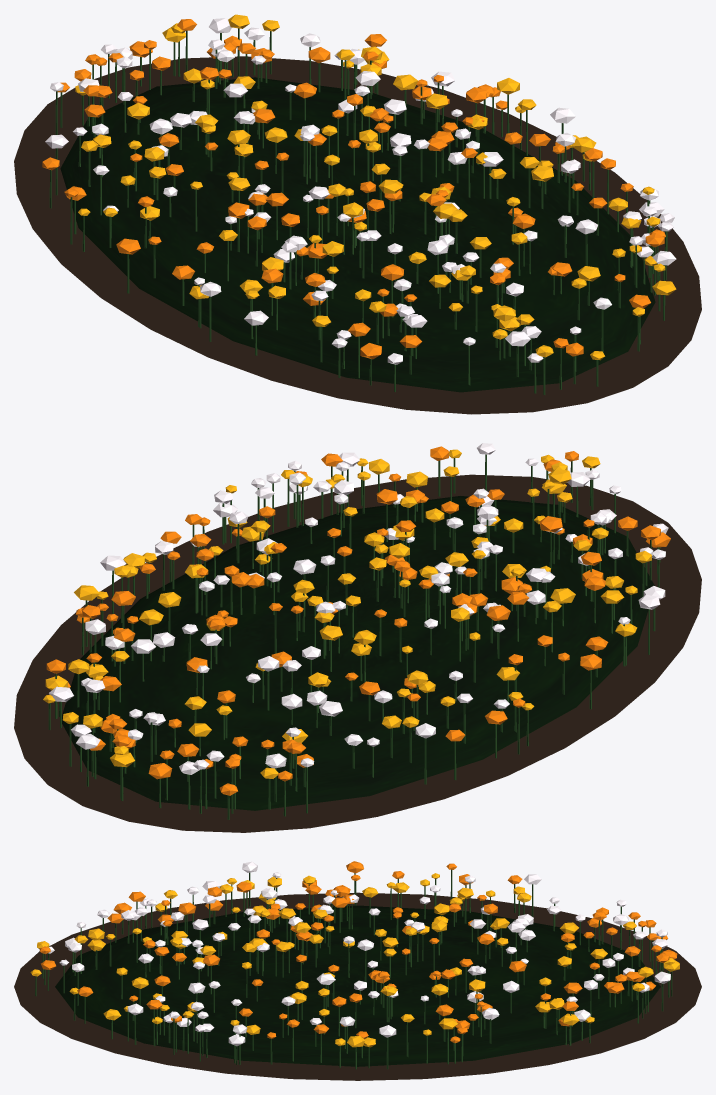
The model's file is flower-bed-11.glb.
3 views of the same model, one above another, from view 1: azimuth 30°, elevation 25°; view 2: azimuth 150°, elevation 25°; view 3: azimuth 270°, elevation 25° (orthographic). The views are drawn at different scales.
Parts seen in each view (by area): view 1: flower-bed-11_MeshStandardMaterial (×4); view 2: flower-bed-11_MeshStandardMaterial (×4); view 3: flower-bed-11_MeshStandardMaterial (×4).
Boxes of the visible parts, bbox=[...] form: flower-bed-11_MeshStandardMaterial (×4): bbox=[14, 14, 701, 414]; flower-bed-11_MeshStandardMaterial (×4): bbox=[14, 443, 701, 832]; flower-bed-11_MeshStandardMaterial (×4): bbox=[14, 861, 701, 1080].
Size of the model in its own units: 3.3 by 0.5506 by 5.1.
Materials: 4 (1 with a texture image).
